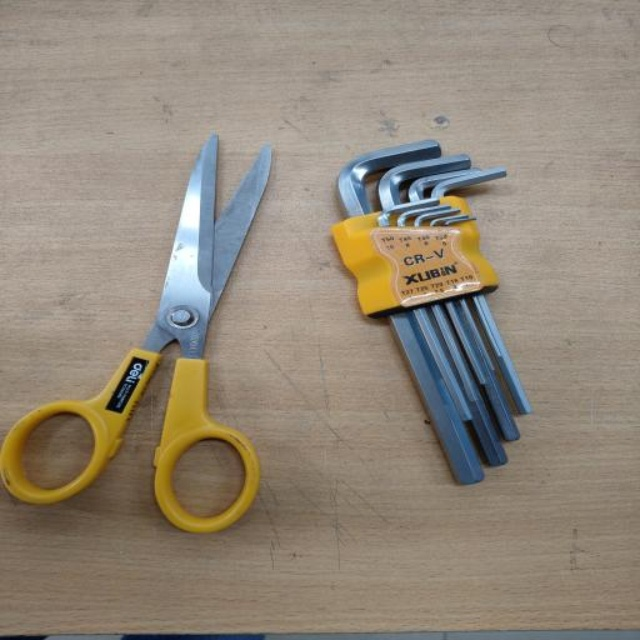scissor: (0, 127, 286, 538)
